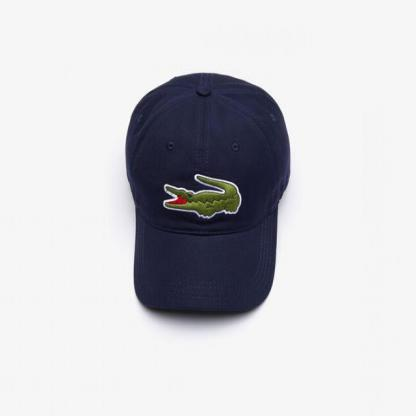cap: (128, 53, 295, 326)
